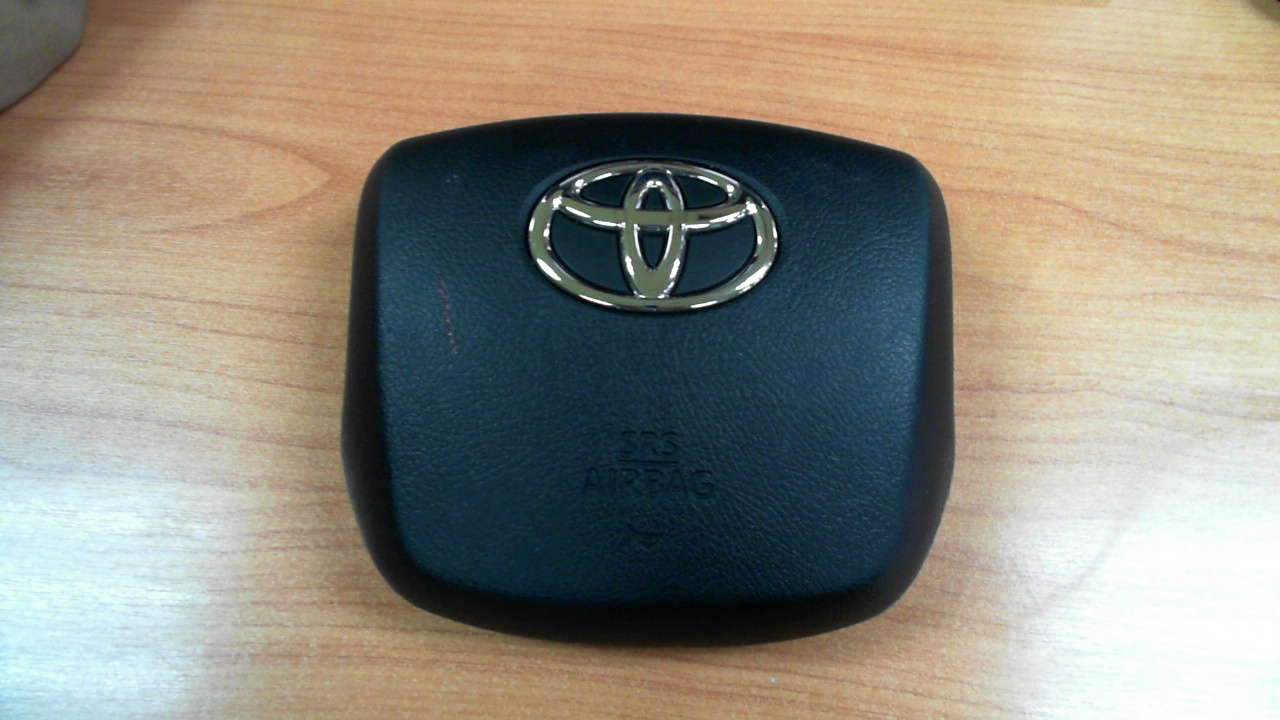Airbag: (348, 114, 956, 640)
Toyota: (528, 159, 778, 309)
